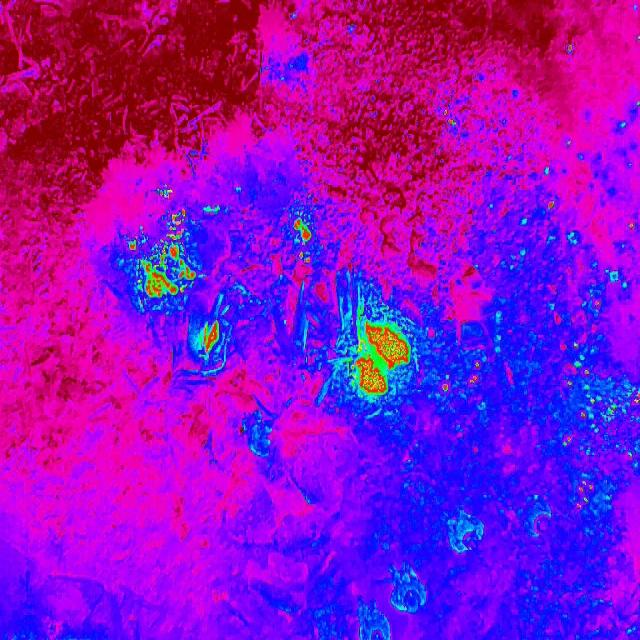fire: (525, 168, 640, 522), (338, 311, 416, 405), (128, 207, 198, 311), (440, 360, 486, 398), (189, 315, 223, 366), (290, 216, 314, 247), (150, 180, 178, 202), (438, 104, 458, 132), (564, 42, 576, 58)
